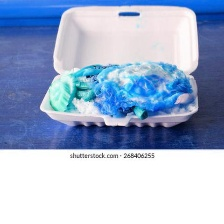foam_box: (34, 1, 203, 131)
